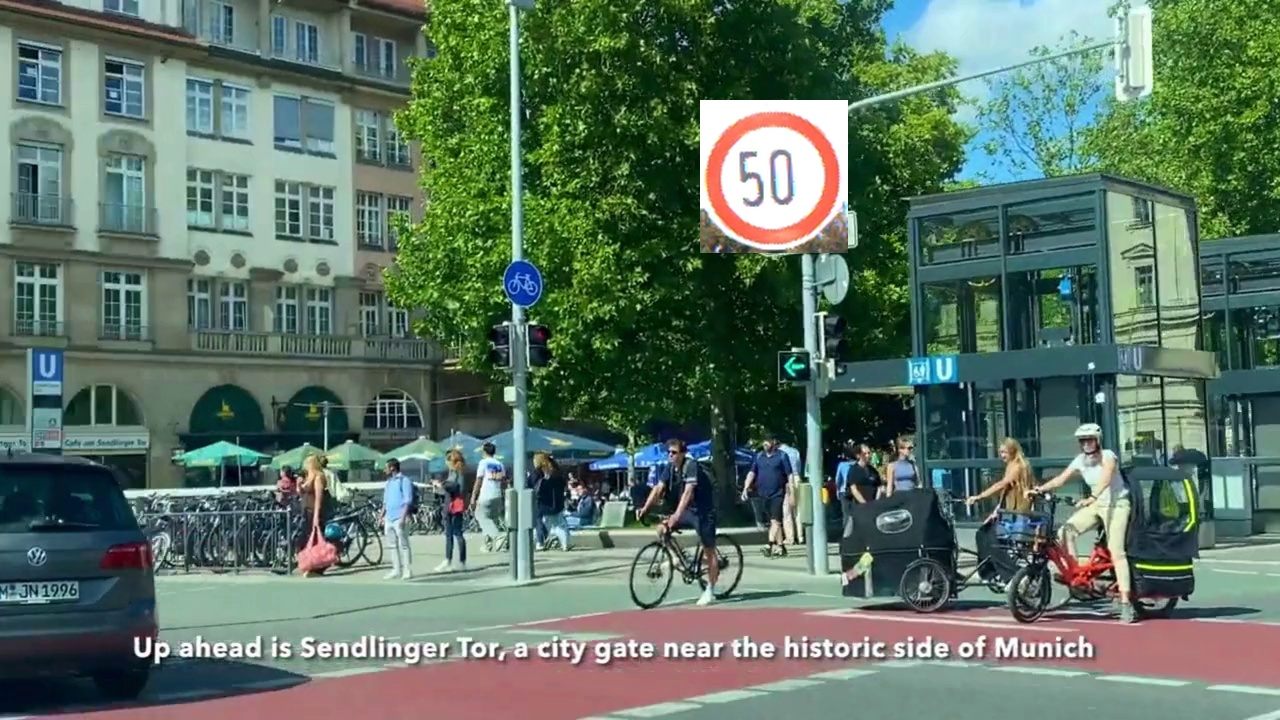Speed 50: (700, 100, 848, 253)
